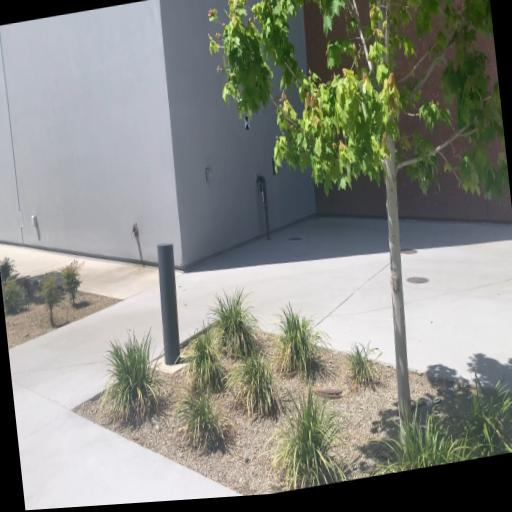target3: (244, 116, 250, 130)
